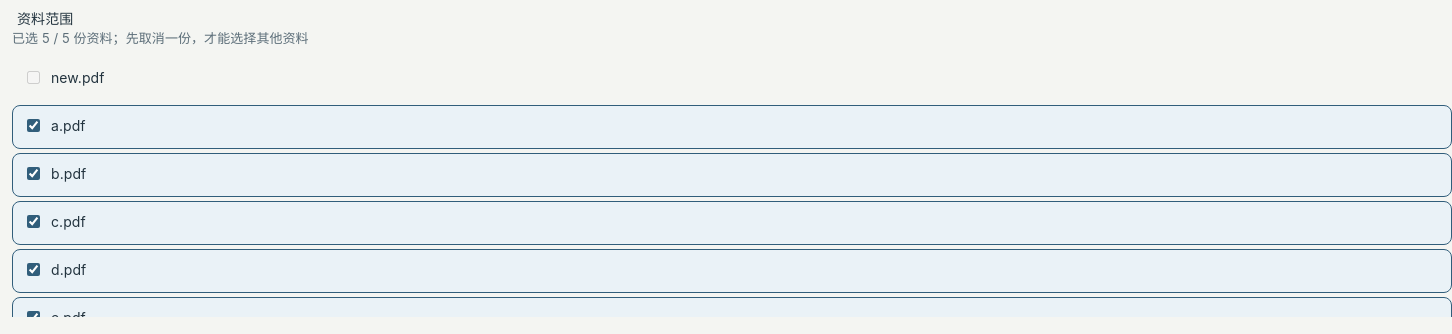
it: a selected document outside the current page remains visible and can be removed
The image size is (1452, 334).
Expected: the checkbox labelled "new.pdf" is disabled, [27, 71, 40, 84]
Click the checkbox labelled "a.pdf" at (34, 126), box [27, 119, 40, 132]
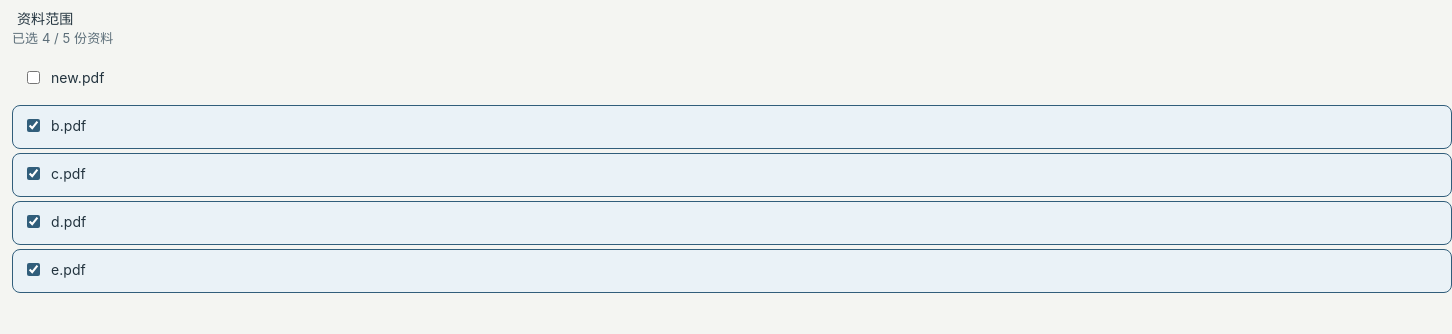
Now the checkbox labelled "new.pdf" is enabled, box [27, 71, 40, 84]
